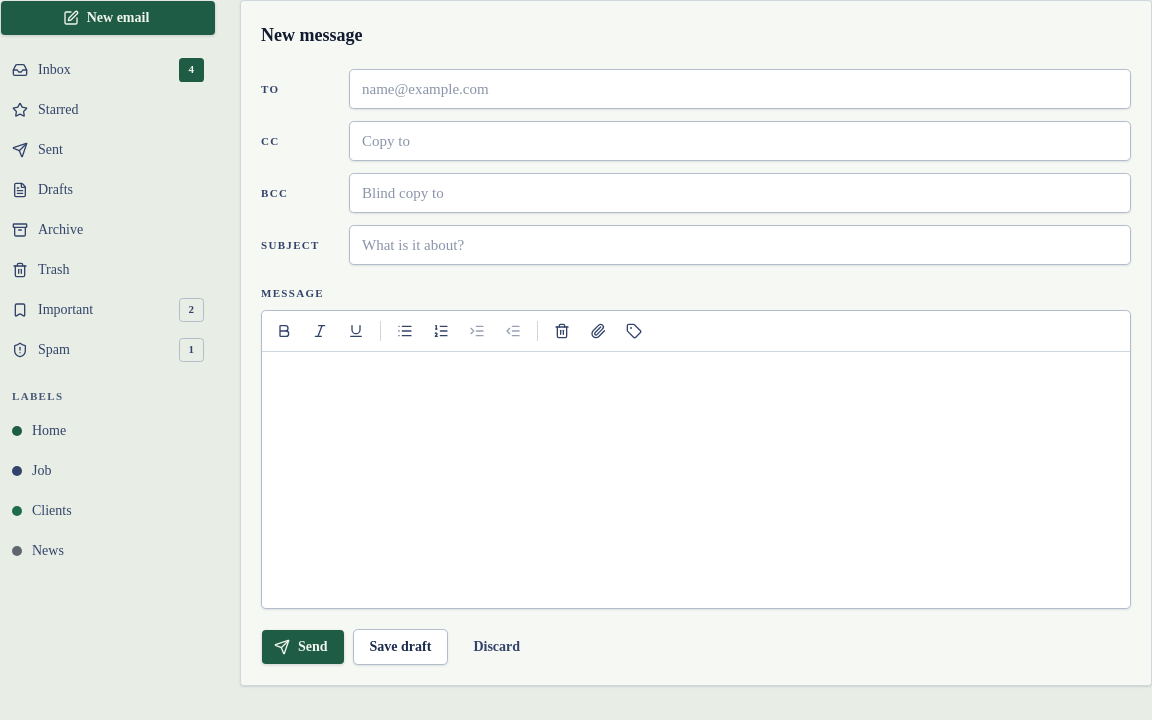
Test: ComposeForm › asks for a recipient before sending
Click the button "Send": (303, 646) [261, 628, 345, 664]
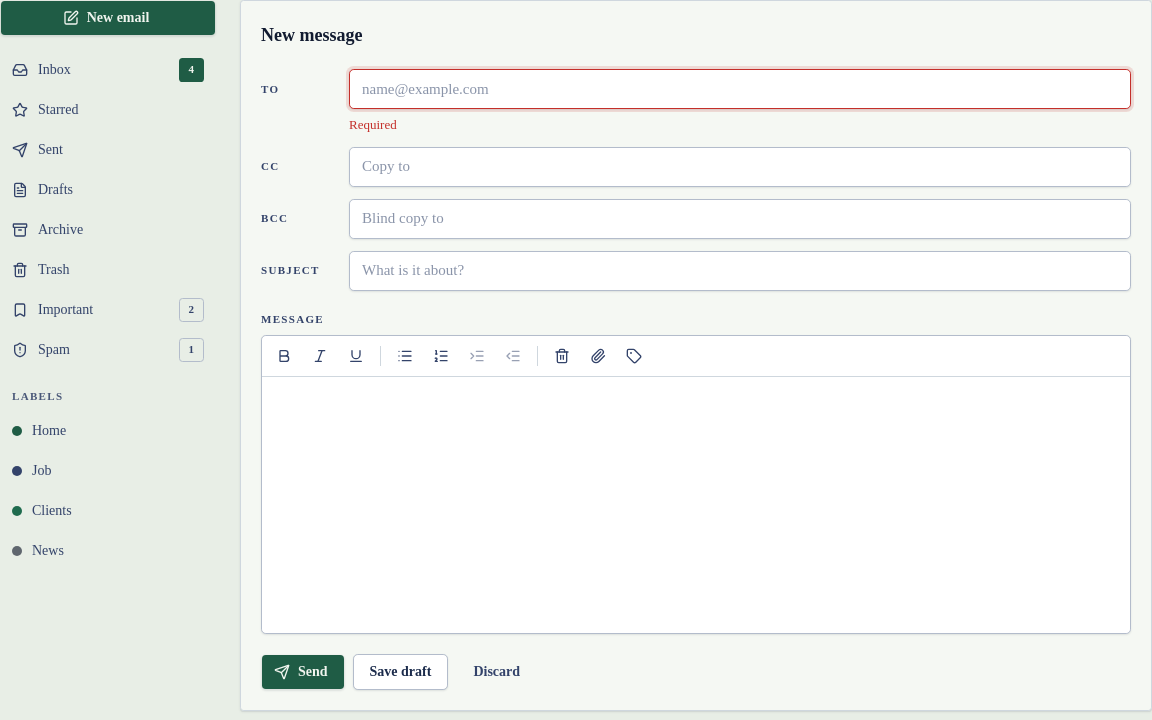
expect the text "Required" is shown: met, box [349, 117, 397, 132]
